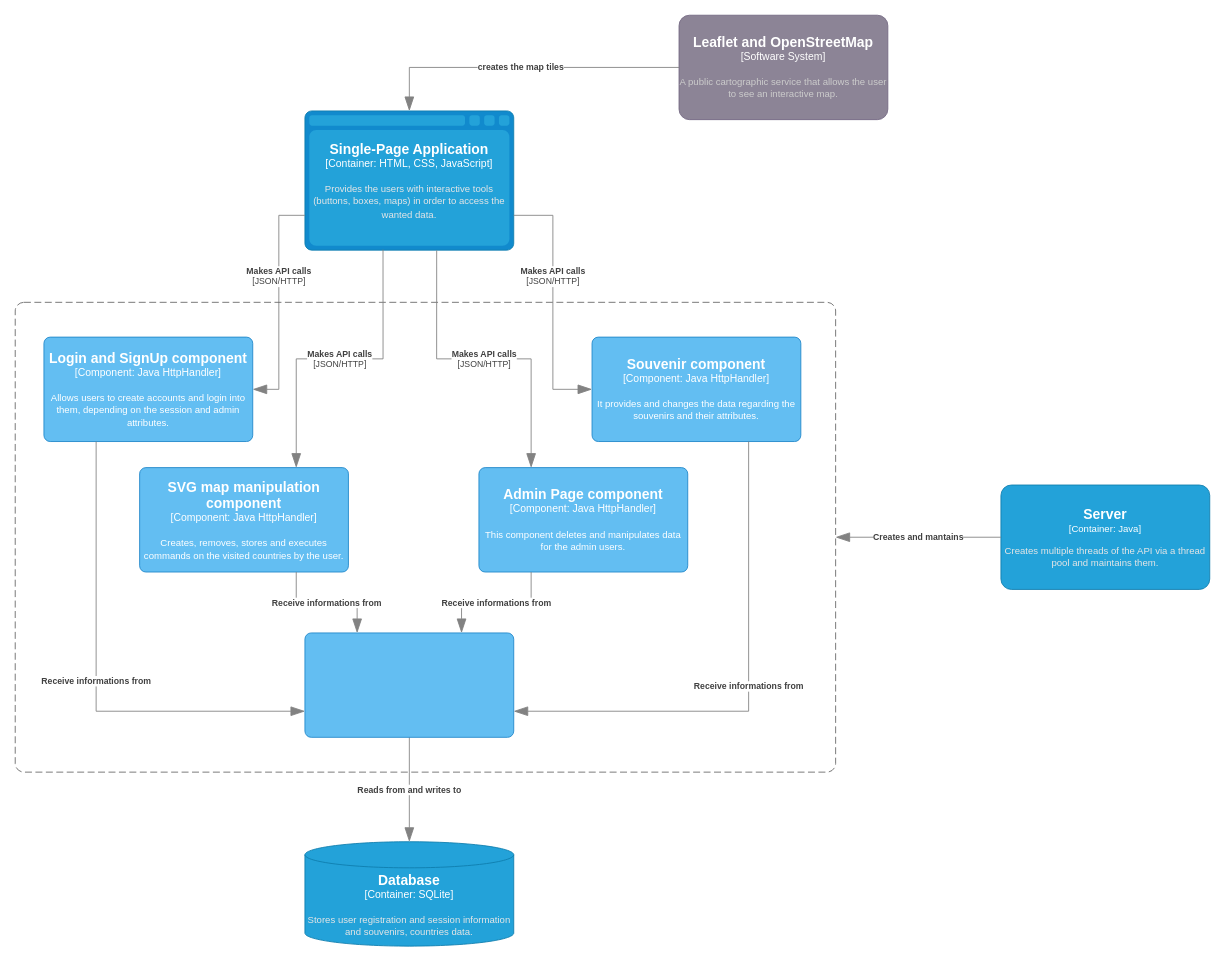
Image size: 1225x961. Some labels were removed from this diagram. The box of each missing label's shape, as (x1, y1, x2, y2) in pixels:
DAOs [Component: Java] They connect the database with the rest of the project: (304, 632, 514, 737)
REST API Application [Container]: (14, 301, 836, 772)
